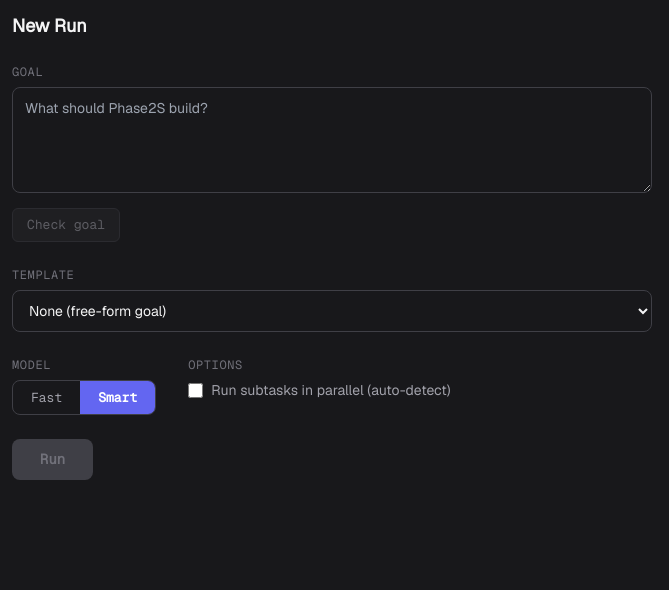
NewRunPage › Lint button shows lint errors when valid is false
In the text box labelled "Goal": [332, 140] box [12,87,652,193], type "bad goal"
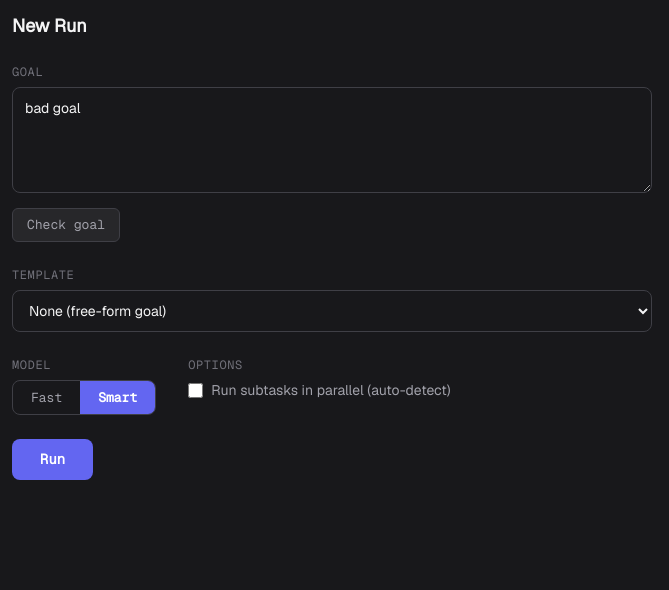
Click the button "Check goal": [66, 225] box [12,208,120,242]
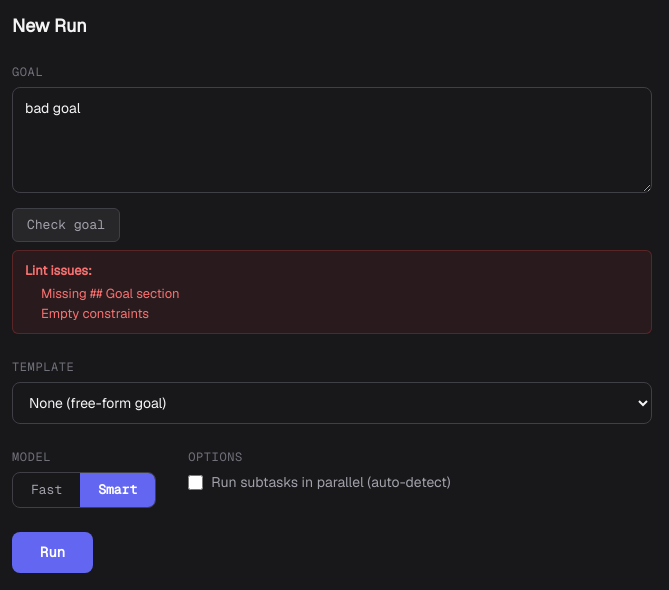
Expected: the list item "Missing ## Goal section" is shown, [41,285,180,302]
